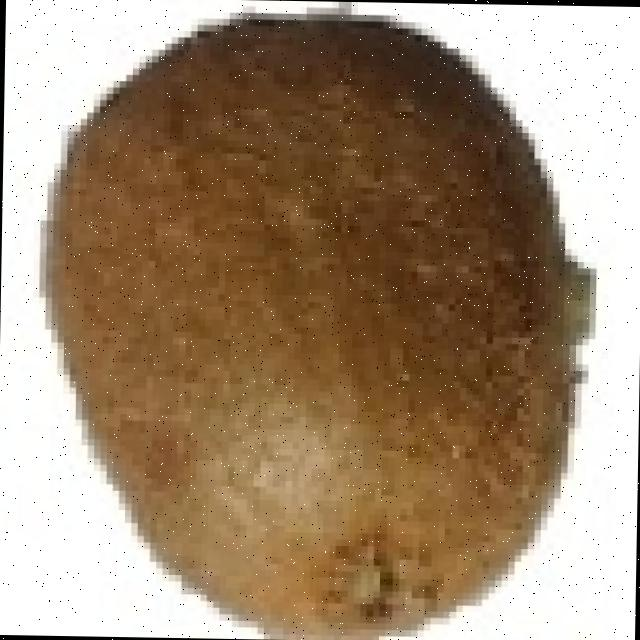kiwi: (38, 30, 577, 635)
